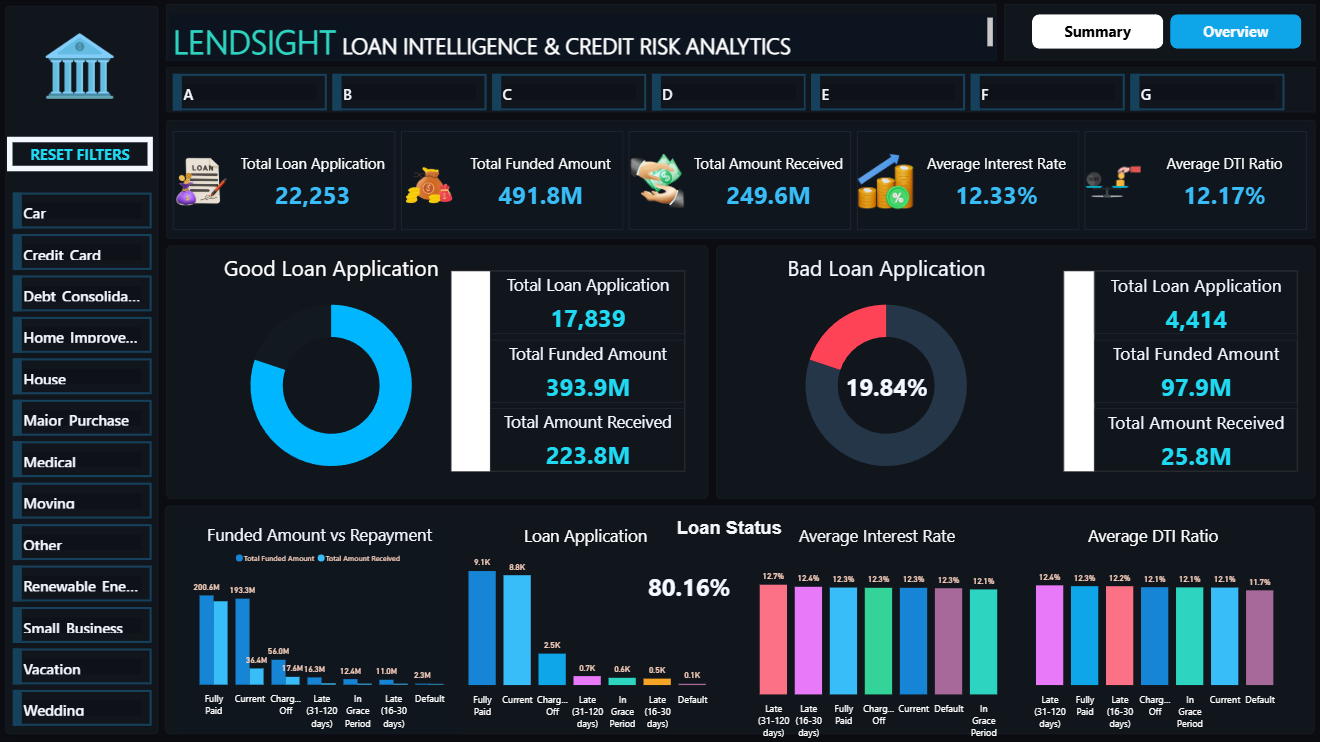

Layout of this report page (visuals, bound fields, positions):
{"tool":"powerbi","page":{"name":"Summary","canvas":[1920,1080],"ordinal":0},"visuals":[{"type":"cardVisual","fields":{"Data":["financial_loan.Total Loan Application","financial_loan.Total Funded Amount","financial_loan.Total Amount Received","financial_loan.Average Interest Rate","financial_loan.Average DTI Rate"]},"box":[250,187.8,1653.3,153.3],"z":0},{"type":"donutChart","title":"Good Loan Application","fields":{"Category":["financial_loan.Good_vs_Bad_Loan"],"Y":["financial_loan.Total Loan Application"]},"box":[272.9,368.6,421.4,342.9],"z":1000},{"type":"donutChart","title":"Bad Loan Application","fields":{"Category":["financial_loan.Good_vs_Bad_Loan"],"Y":["financial_loan.Total Loan Application"]},"box":[1077.1,368.6,421.4,342.9],"z":2000},{"type":"cardVisual","fields":{"Data":["financial_loan.Good Loan %"]},"box":[912.1,803.5,180,88.6],"z":3000},{"type":"cardVisual","fields":{"Data":["financial_loan.Bad Loan %"]},"box":[1197.1,514.3,180,88.6],"z":4000},{"type":"cardVisual","fields":{"Data":["financial_loan.Total Loan Application","financial_loan.Total Funded Amount","financial_loan.Total Amount Received"],"Rows":["financial_loan.Good_vs_Bad_Loan"]},"box":[651.4,368.6,350,342.9],"z":5000},{"type":"cardVisual","fields":{"Data":["financial_loan.Total Loan Application","financial_loan.Total Funded Amount","financial_loan.Total Amount Received"],"Rows":["financial_loan.Good_vs_Bad_Loan"]},"box":[1538.6,368.6,350,342.9],"z":6000},{"type":"clusteredColumnChart","title":"Funded Amount vs Repayment","fields":{"Category":["financial_loan.LOAN_STATUS"],"Y":["financial_loan.Total Funded Amount","financial_loan.Total Amount Received"]},"box":[260.6,760.1,412.9,305.7],"z":7000},{"type":"clusteredColumnChart","title":"Loan Application","fields":{"Category":["financial_loan.LOAN_STATUS"],"Y":["financial_loan.Total Loan Application"]},"box":[651.2,761.2,401.2,305],"z":8000},{"type":"textbox","box":[979,747.4,197.3,112.2],"z":9000},{"type":"clusteredColumnChart","title":"Average Interest Rate","fields":{"Category":["financial_loan.LOAN_STATUS"],"Y":["financial_loan.Average Interest Rate"]},"box":[1072.9,761.4,401.4,318.6],"z":10000},{"type":"clusteredColumnChart","title":"Average DTI Ratio","fields":{"Category":["financial_loan.LOAN_STATUS"],"Y":["financial_loan.Average DTI Ratio"]},"box":[1473.8,761.2,401.2,305],"z":11000},{"type":"actionButton","box":[14.3,200,211.4,50],"z":12000},{"type":"textbox","box":[250,24.3,1197.1,68.6],"z":13000},{"type":"pageNavigator","box":[1498.4,23.5,390.9,50.7],"z":14000},{"type":"advancedSlicerVisual","fields":{"Values":["financial_loan.PURPOSE"]},"box":[18.1,276.9,211.7,789],"z":15000},{"type":"advancedSlicerVisual","fields":{"Values":["financial_loan.GRADE"]},"box":[249.7,105,1625.1,63.3],"z":16000},{"type":"image","box":[14.5,23.5,211,150],"z":17000}]}

Visuals, with their boxes in screenshot pixels (x1, y1, x2, y2), scaled from the page's 1920x1080 canvas onto the 1320x742 screenshot:
cardVisual - financial_loan.Total Loan Application x financial_loan.Total Funded Amount: <bbox>172, 129, 1309, 234</bbox>
"Good Loan Application" donutChart: <bbox>188, 253, 477, 489</bbox>
"Bad Loan Application" donutChart: <bbox>741, 253, 1030, 489</bbox>
cardVisual - financial_loan.Good Loan %: <bbox>627, 552, 751, 613</bbox>
cardVisual - financial_loan.Bad Loan %: <bbox>823, 353, 947, 414</bbox>
cardVisual - financial_loan.Total Loan Application x financial_loan.Total Funded Amount: <bbox>448, 253, 688, 489</bbox>
cardVisual - financial_loan.Total Loan Application x financial_loan.Total Funded Amount: <bbox>1058, 253, 1298, 489</bbox>
"Funded Amount vs Repayment" clusteredColumnChart: <bbox>179, 522, 463, 732</bbox>
"Loan Application" clusteredColumnChart: <bbox>448, 523, 724, 733</bbox>
textbox: <bbox>673, 513, 809, 591</bbox>
"Average Interest Rate" clusteredColumnChart: <bbox>738, 523, 1014, 741</bbox>
"Average DTI Ratio" clusteredColumnChart: <bbox>1013, 523, 1289, 733</bbox>
actionButton: <bbox>10, 137, 155, 172</bbox>
textbox: <bbox>172, 17, 995, 64</bbox>
pageNavigator: <bbox>1030, 16, 1299, 51</bbox>
advancedSlicerVisual - financial_loan.PURPOSE: <bbox>12, 190, 158, 732</bbox>
advancedSlicerVisual - financial_loan.GRADE: <bbox>172, 72, 1289, 116</bbox>
image: <bbox>10, 16, 155, 119</bbox>
